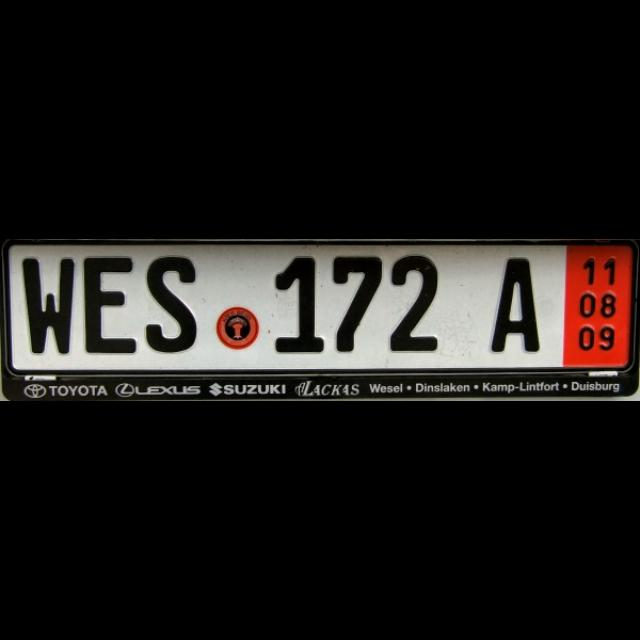d_license_plate: (9, 245, 631, 368)
